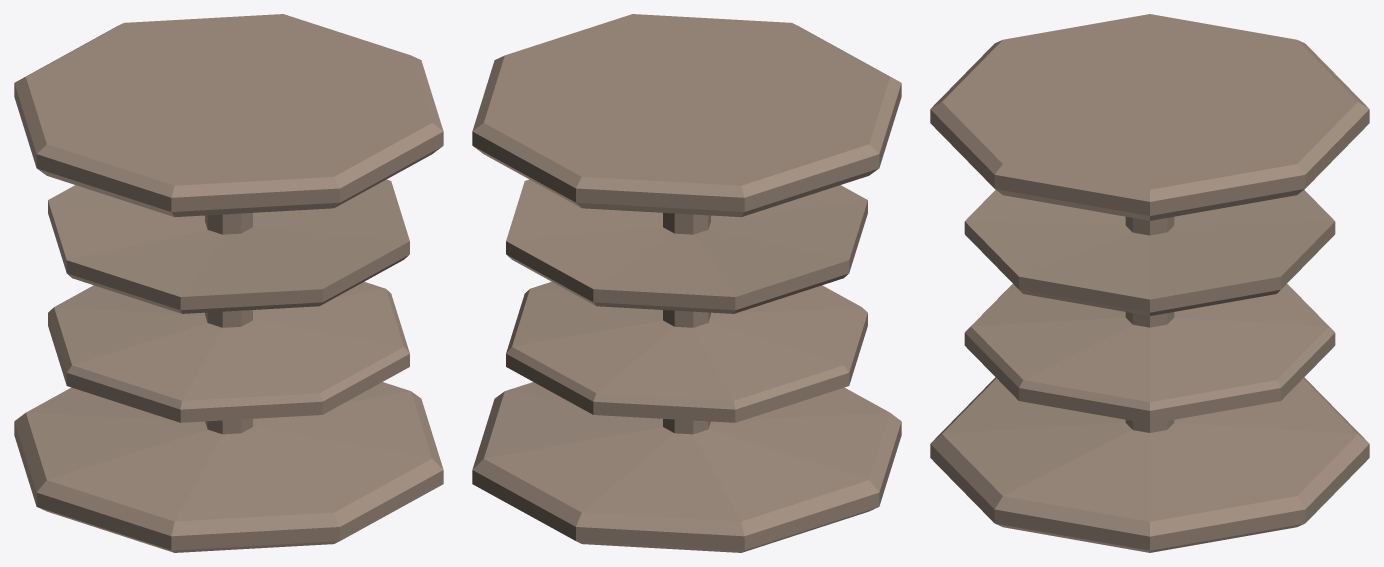
Rendered from VER 2 ratwurst warmer.fbx.
3 views of the same model, side by side, from view 1: azimuth 30°, elevation 25°; view 2: azimuth 150°, elevation 25°; view 3: azimuth 270°, elevation 25° (orthographic).
Parts seen in each view (by area): view 1: ratwurst warmer; view 2: ratwurst warmer; view 3: ratwurst warmer.
Boxes of the visible parts, x1=… form: ratwurst warmer: x1=14, y1=14, x2=443, y2=552; ratwurst warmer: x1=472, y1=14, x2=901, y2=552; ratwurst warmer: x1=930, y1=14, x2=1369, y2=552.
Bounding box in the file's own units: 2.1 × 2.1 × 1.91.
